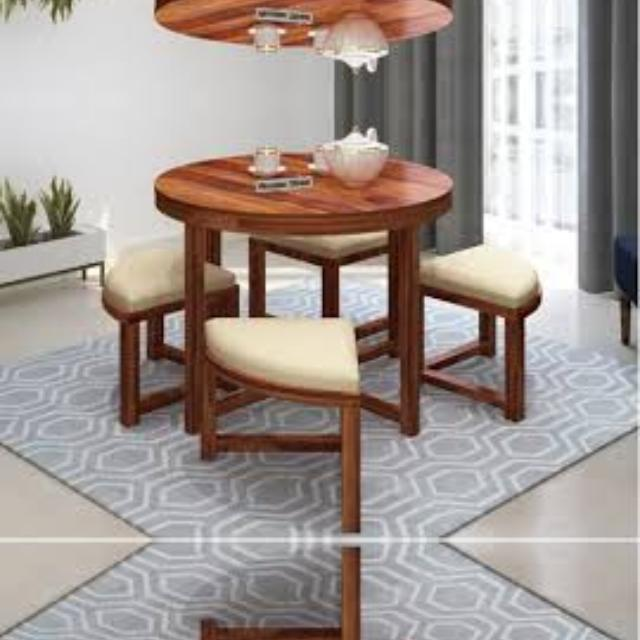obstacle: (139, 117, 477, 275), (196, 281, 382, 504), (78, 204, 202, 433), (139, 0, 477, 81), (423, 224, 565, 416), (196, 575, 381, 640)
